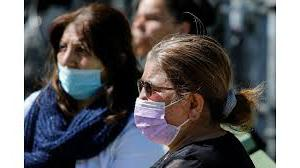mask_weared_incorrect: (51, 43, 94, 93)
with_mask: (125, 80, 170, 146)
without_mask: (129, 9, 166, 51)
